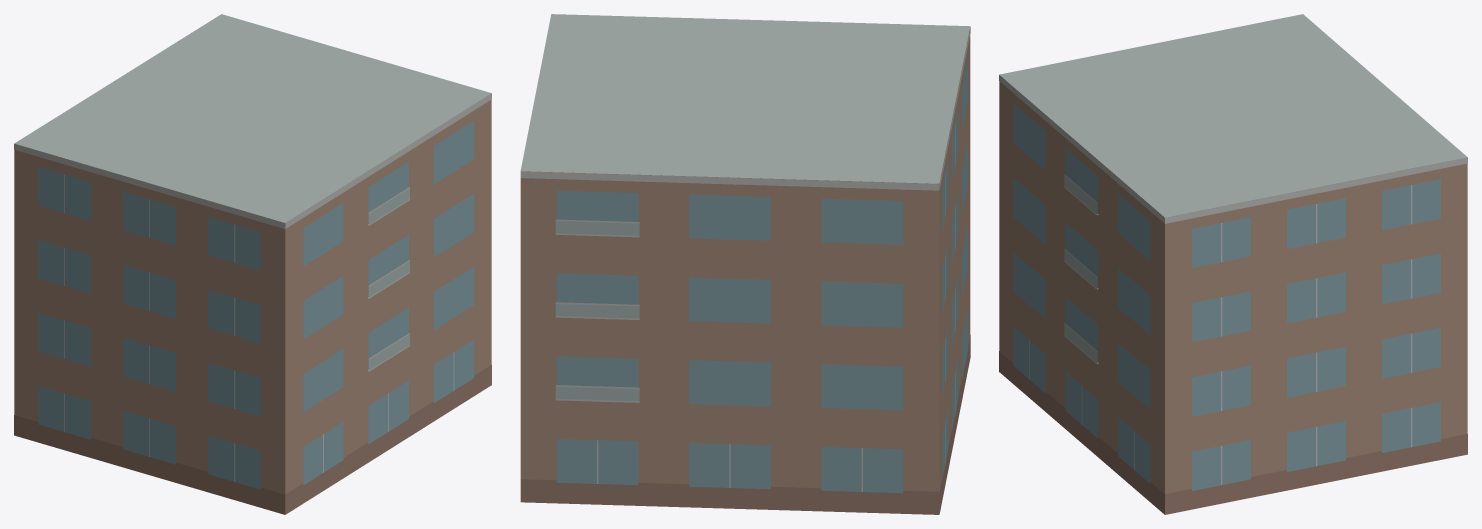
Rendered from survey-upis-32736545.glb.
The picture shows the model from 3 angles, left to right: view 1: azimuth 30°, elevation 25°; view 2: azimuth 150°, elevation 25°; view 3: azimuth 270°, elevation 25°; orthographic projection. The views are drawn at different scales.
Visible parts, largest first — view 1: survey-upis-32736545.tmp; view 2: survey-upis-32736545.tmp; view 3: survey-upis-32736545.tmp.
Part boxes in pixels (box(x1,y1,x2,y2)): survey-upis-32736545.tmp: box(14, 14, 491, 514); survey-upis-32736545.tmp: box(520, 14, 970, 514); survey-upis-32736545.tmp: box(999, 14, 1467, 514).
Bounding box in the file's own units: 17.21 × 11.7 × 16.73.
